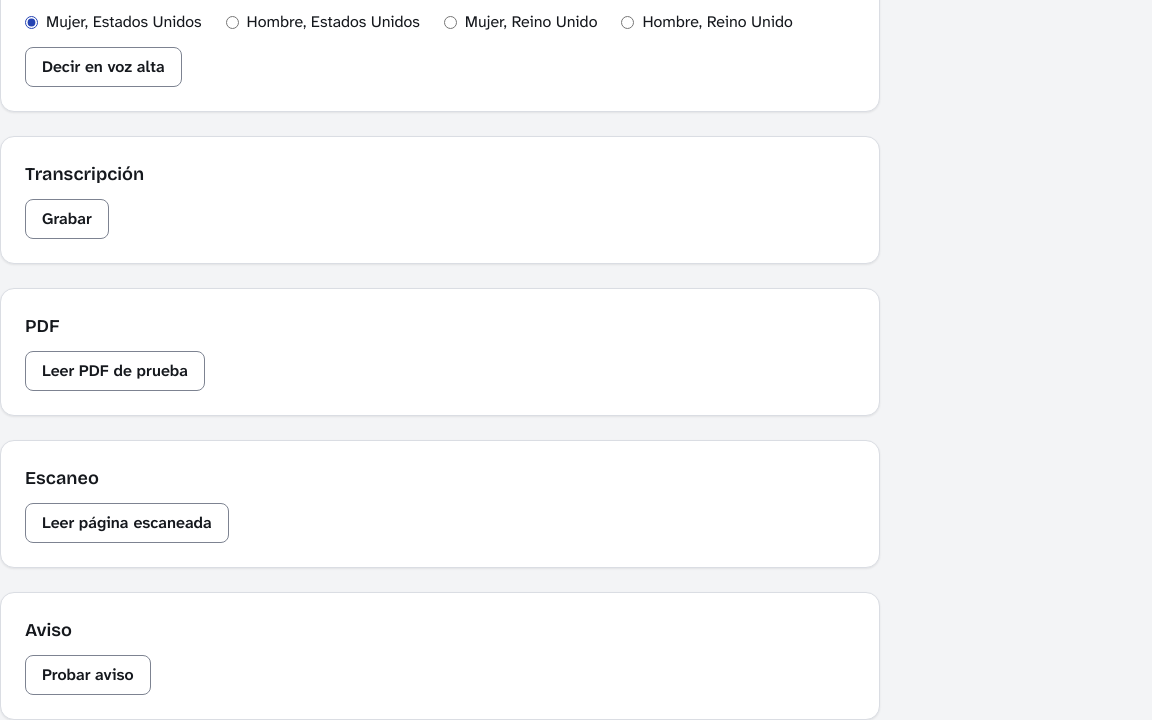
Scenario: Laboratorio › [CA-029] «Leer página escaneada» muestra el texto reconocido y cuánto tardó (simulado)
The width and height of the screenshot is (1152, 720).
(page scrolled)
Click the button "Leer página escaneada": click(127, 523) [25,503,229,543]
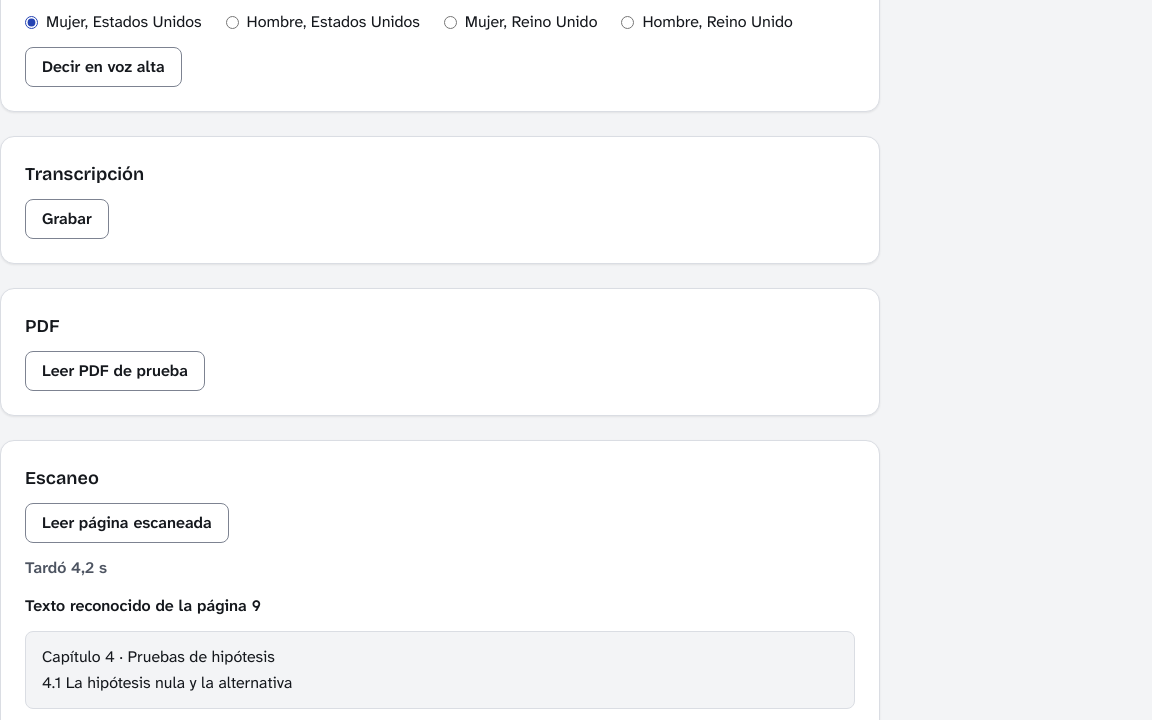
Now the text "La hipótesis nula y la alternativa" is shown, box [42,646,292,693]
Now the text "Tardó 4,2 s" is shown, box [25,557,107,578]
